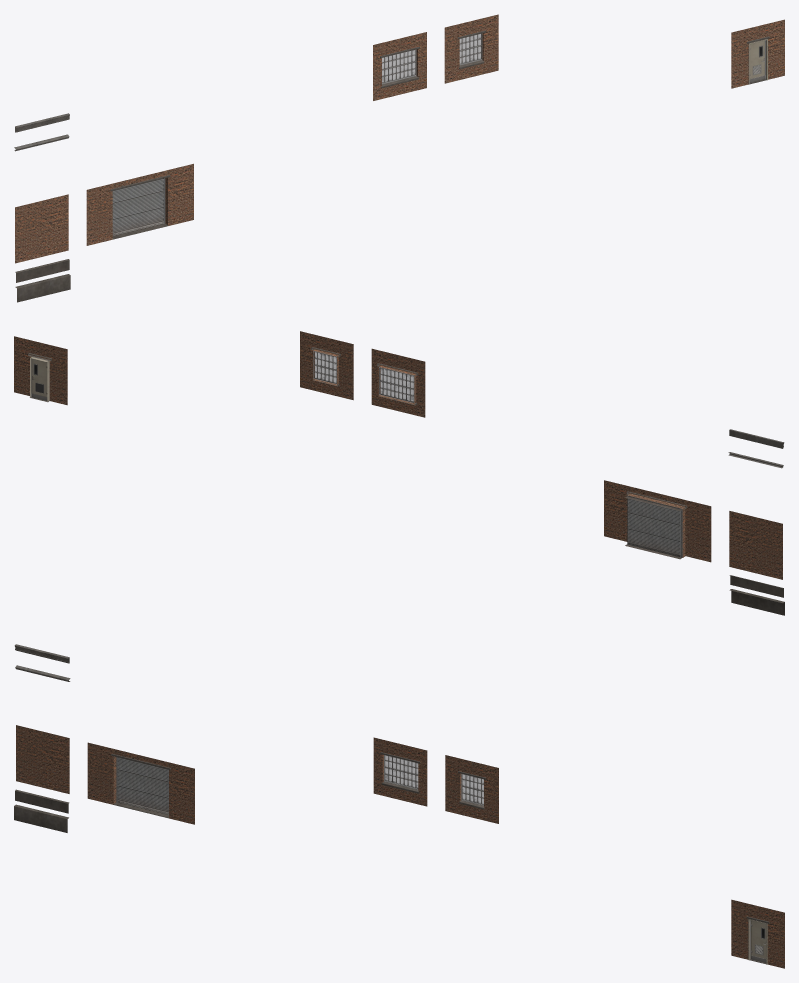
The model's file is factory-facade-kit.glb.
3 views of the same model, one above another, from view 1: azimuth 30°, elevation 25°; view 2: azimuth 150°, elevation 25°; view 3: azimuth 330°, elevation 25° (orthographic).
Parts seen in each view (by area): view 1: wall_door_garage_centered_01, wall_standard_standard_01, door_garage_centered_01, wall_window_centered_medium_01, wall_door_centered_small_01, wall_window_centered_large_01, window_centered_large_01, base_standard_standard_01, door_centered_small_01, window_centered_medium_01, dado_standard_standard_01; view 2: wall_door_garage_centered_01, wall_standard_standard_01, door_garage_centered_01, wall_window_centered_medium_01, wall_door_centered_small_01, wall_window_centered_large_01, window_centered_large_01, door_centered_small_01, base_standard_standard_01, window_centered_medium_01, dado_standard_standard_01; view 3: wall_door_garage_centered_01, wall_standard_standard_01, door_garage_centered_01, wall_window_centered_medium_01, wall_door_centered_small_01, wall_window_centered_large_01, window_centered_large_01, base_standard_standard_01, door_centered_small_01, window_centered_medium_01, dado_standard_standard_01.
Part boxes in pixels (x1,y1,x2,y2): wall_door_garage_centered_01: [86, 163, 193, 245]; wall_standard_standard_01: [15, 194, 68, 263]; door_garage_centered_01: [110, 175, 170, 239]; wall_window_centered_medium_01: [444, 14, 498, 83]; wall_door_centered_small_01: [731, 19, 784, 88]; wall_window_centered_large_01: [373, 32, 426, 100]; window_centered_large_01: [380, 46, 419, 88]; base_standard_standard_01: [15, 274, 70, 302]; door_centered_small_01: [747, 36, 769, 84]; window_centered_medium_01: [457, 30, 485, 69]; dado_standard_standard_01: [15, 259, 69, 282]; wall_door_garage_centered_01: [604, 480, 711, 562]; wall_standard_standard_01: [729, 511, 782, 579]; door_garage_centered_01: [625, 491, 687, 559]; wall_window_centered_medium_01: [300, 331, 353, 400]; wall_door_centered_small_01: [14, 336, 67, 405]; wall_window_centered_large_01: [371, 348, 425, 417]; window_centered_large_01: [377, 363, 418, 405]; door_centered_small_01: [28, 353, 51, 402]; base_standard_standard_01: [729, 589, 784, 615]; window_centered_medium_01: [311, 347, 340, 386]; dado_standard_standard_01: [729, 575, 783, 597]; wall_door_garage_centered_01: [87, 742, 194, 824]; wall_standard_standard_01: [16, 725, 69, 793]; door_garage_centered_01: [111, 753, 170, 818]; wall_window_centered_medium_01: [445, 755, 498, 823]; wall_door_centered_small_01: [731, 899, 784, 968]; wall_window_centered_large_01: [373, 737, 427, 806]; window_centered_large_01: [380, 752, 420, 793]; base_standard_standard_01: [14, 804, 68, 832]; door_centered_small_01: [746, 916, 769, 964]; window_centered_medium_01: [458, 771, 485, 809]; dado_standard_standard_01: [15, 789, 69, 813].
Size of the model in its own units: 43 by 9.32 by 0.7.
Materials: 6 (6 with a texture image).
